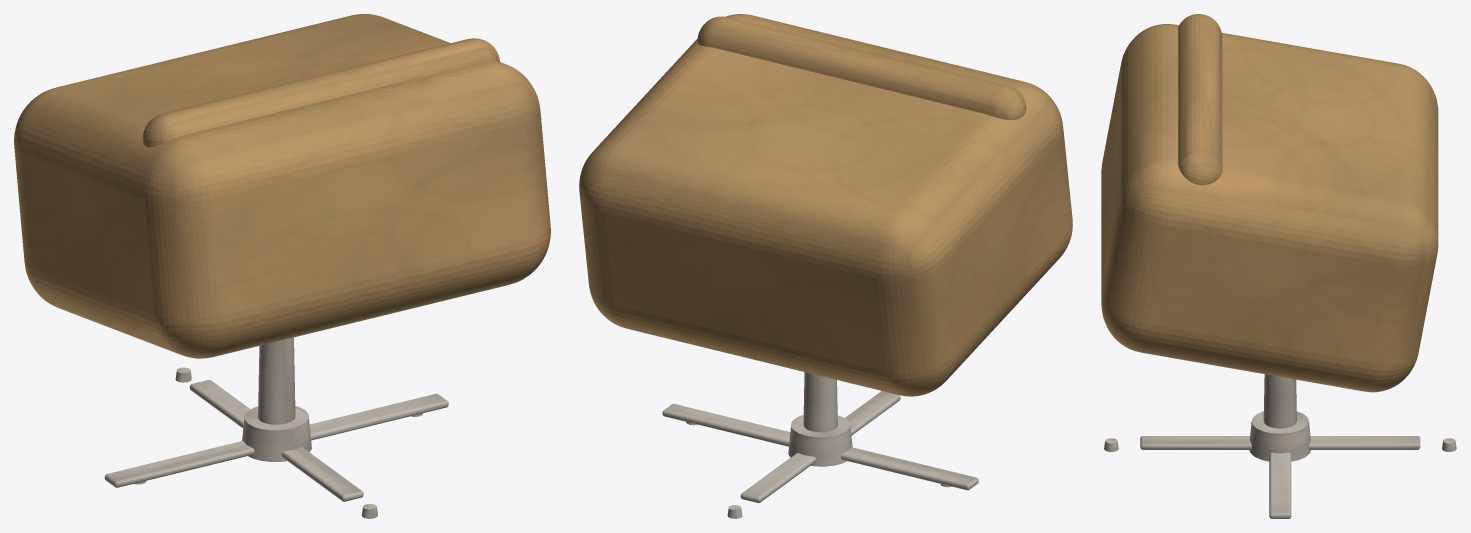
The model's file is chair-breeze.glb.
3 views of the same model, side by side, from view 1: azimuth 30°, elevation 25°; view 2: azimuth 150°, elevation 25°; view 3: azimuth 270°, elevation 25° (orthographic). The views are drawn at different scales.
Parts seen in each view (by area): view 1: primary (×2), legs (×4); view 2: primary (×2), legs (×4); view 3: primary (×2), legs (×4).
Part boxes in pixels (x1,y1,x2,y2): primary (×2): (14,14,550,358); legs (×4): (104,337,448,501); primary (×2): (579,14,1072,396); legs (×4): (662,372,978,503); primary (×2): (1101,14,1438,392); legs (×4): (1140,374,1420,518).
Size of the model in its own units: 0.77 by 0.76 by 0.67.
3 materials, 3 textured.
